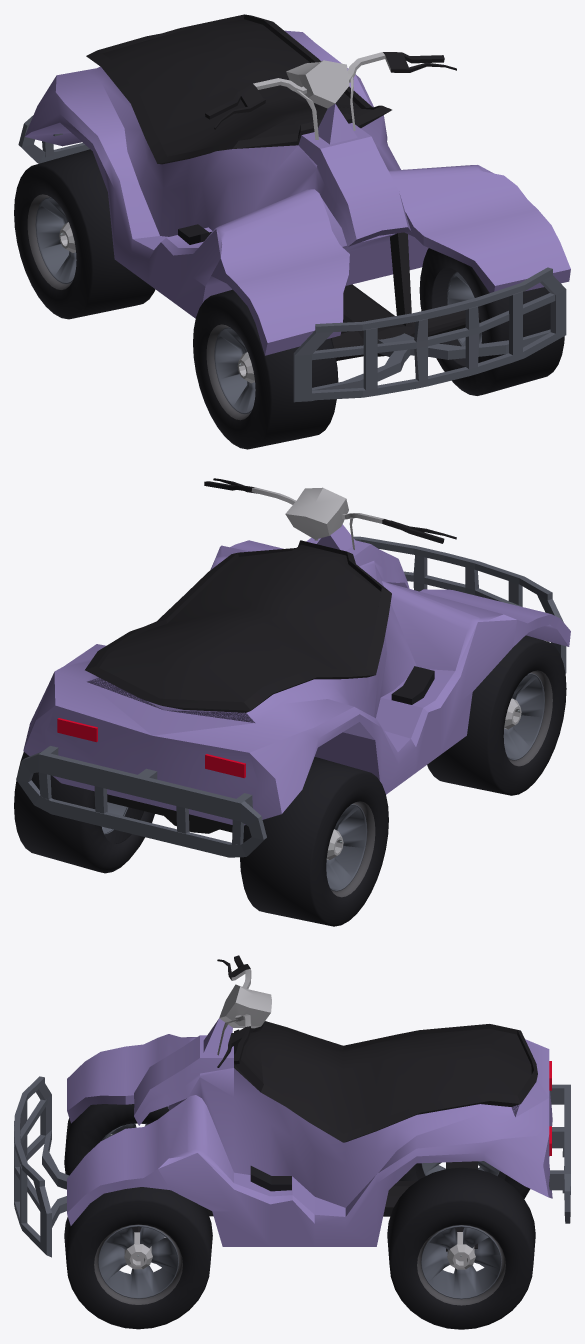
The model's file is atv_motor.fbx.
The picture shows the model from 3 angles, top to bottom: view 1: azimuth 30°, elevation 25°; view 2: azimuth 150°, elevation 25°; view 3: azimuth 270°, elevation 25°; orthographic projection. The views are drawn at different scales.
Visible parts, largest first — view 1: Cube, atv back rigth, atv rigth, atv left; view 2: Cube, atv back rigth, atv rigth, atv back left; view 3: Cube, atv back left, atv left, atv rigth, atv back rigth.
Part boxes in pixels (x1,y1,x2,y2): Cube: [18, 14, 570, 402]; atv back rigth: [14, 149, 155, 319]; atv rigth: [193, 289, 338, 449]; atv left: [419, 248, 564, 395]; Cube: [16, 478, 570, 857]; atv back rigth: [240, 757, 388, 926]; atv rigth: [427, 635, 566, 795]; atv back left: [14, 752, 154, 873]; Cube: [14, 955, 570, 1257]; atv back left: [387, 1167, 535, 1329]; atv left: [64, 1187, 212, 1329]; atv rigth: [64, 1104, 168, 1175]; atv back rigth: [399, 1161, 530, 1198].
Bounding box in the file's own units: 308 × 299 × 538.
Materials: 1 (1 with a texture image).
